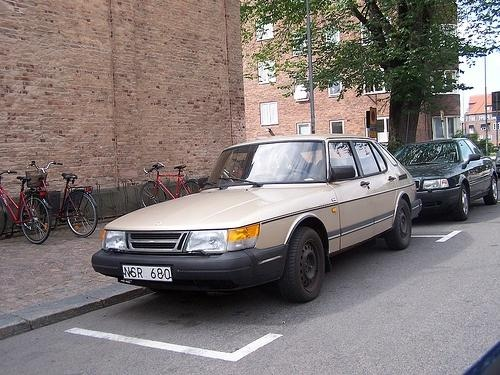bicycle: (24, 160, 100, 240), (1, 169, 53, 245), (134, 161, 207, 215)
car: (94, 138, 422, 306), (373, 131, 500, 227)
